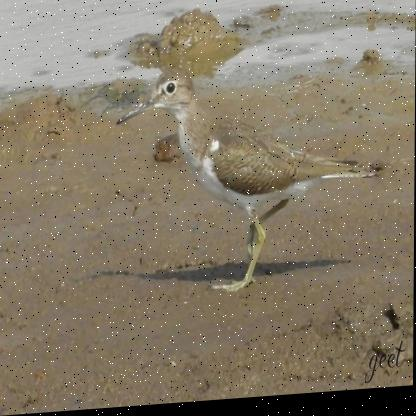Burung: (105, 66, 382, 312)
